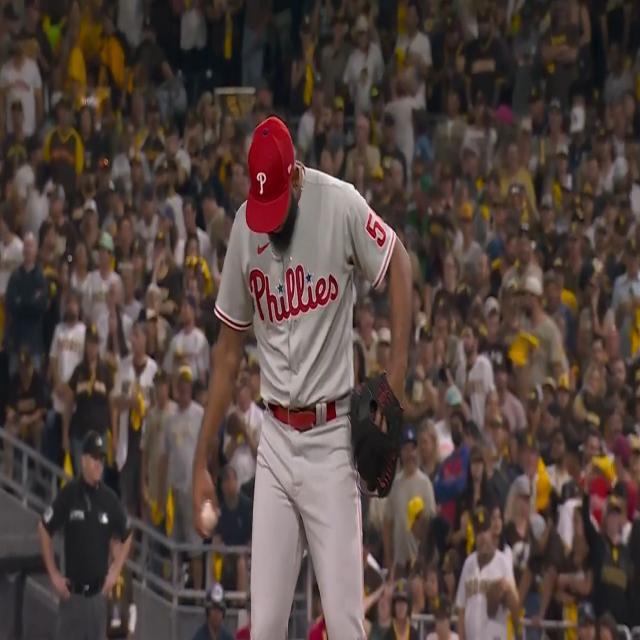baseball: (200, 500, 218, 530)
